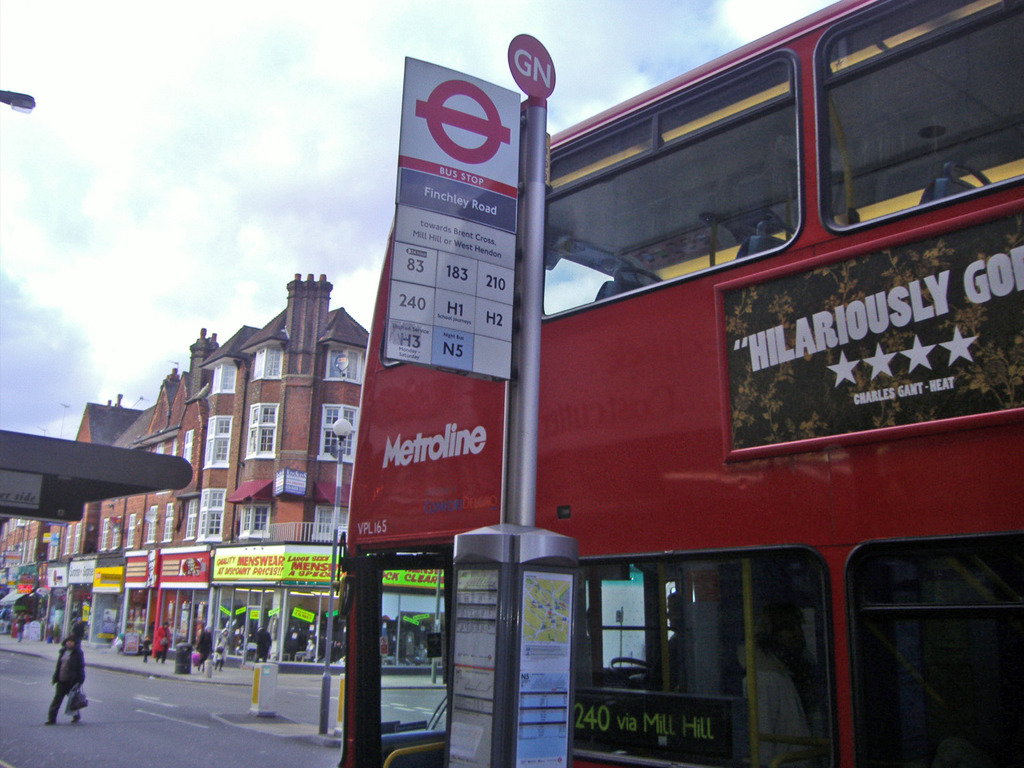Bus: (330, 0, 1023, 766)
